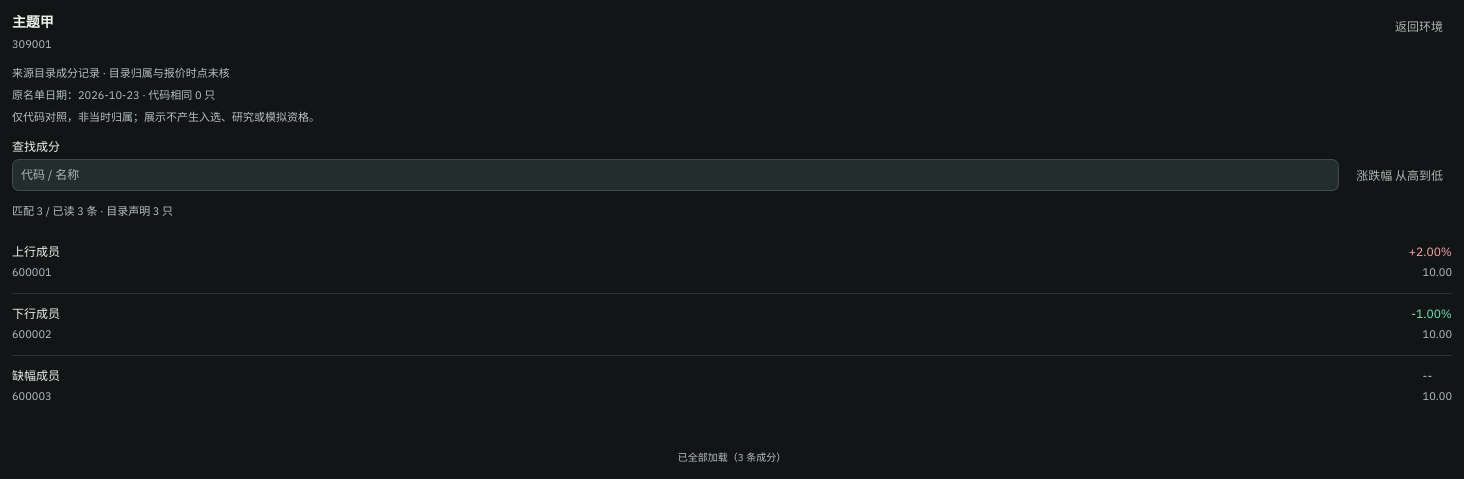
发现成分是原右栏只读参考 › sorts unknown values last in either direction and searches locally without another source read
Click the button with aria-label "涨跌幅降序，点击切换" at (1400, 176), box [1347,161,1452,191]
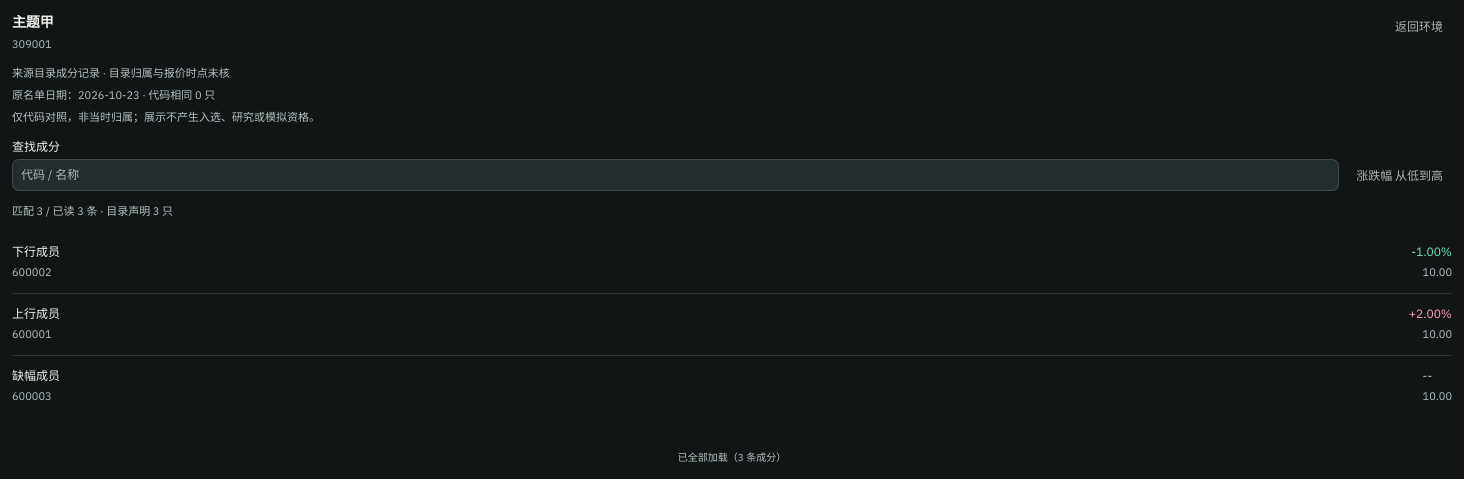
Expected: the links read "下行成员", "上行成员", "缺幅成员", in this order, [12,244,60,259]; [12,306,60,321]; [12,368,60,383]
Type "600001" into the search field labelled "查找成分" at (676, 175), box [12,159,1339,191]
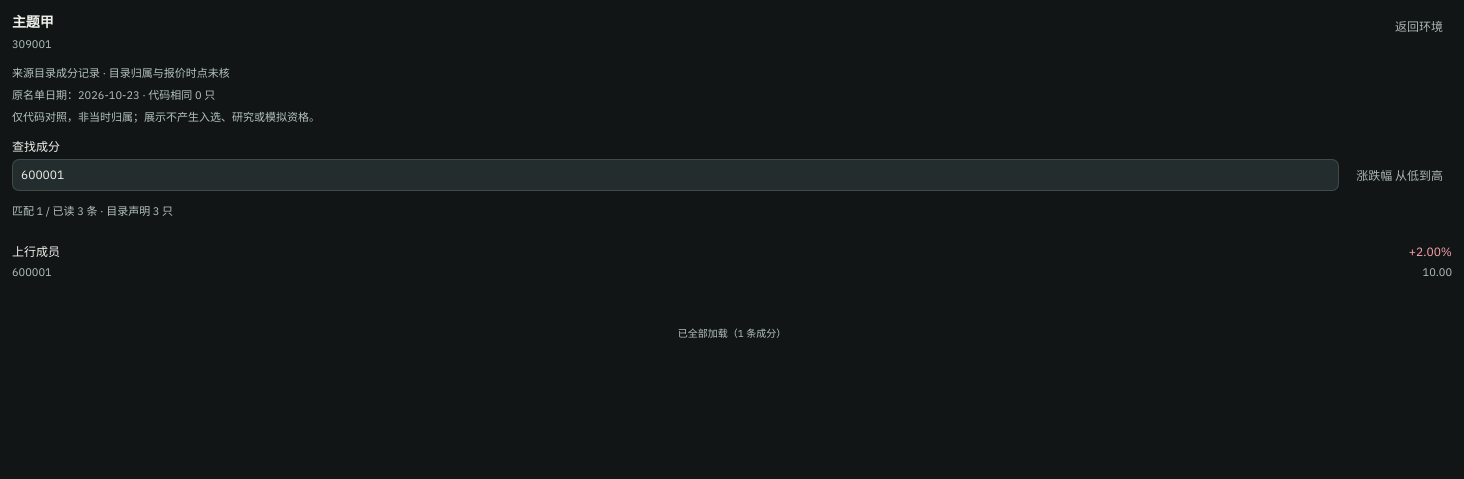
Expected: the link reads "上行成员", [12,244,60,259]
Expected: the number of links is 1, [12,244,60,259]
Replace the text in the search field labelled "查找成分" with "不匹配" at (676, 175), box [12,159,1339,191]
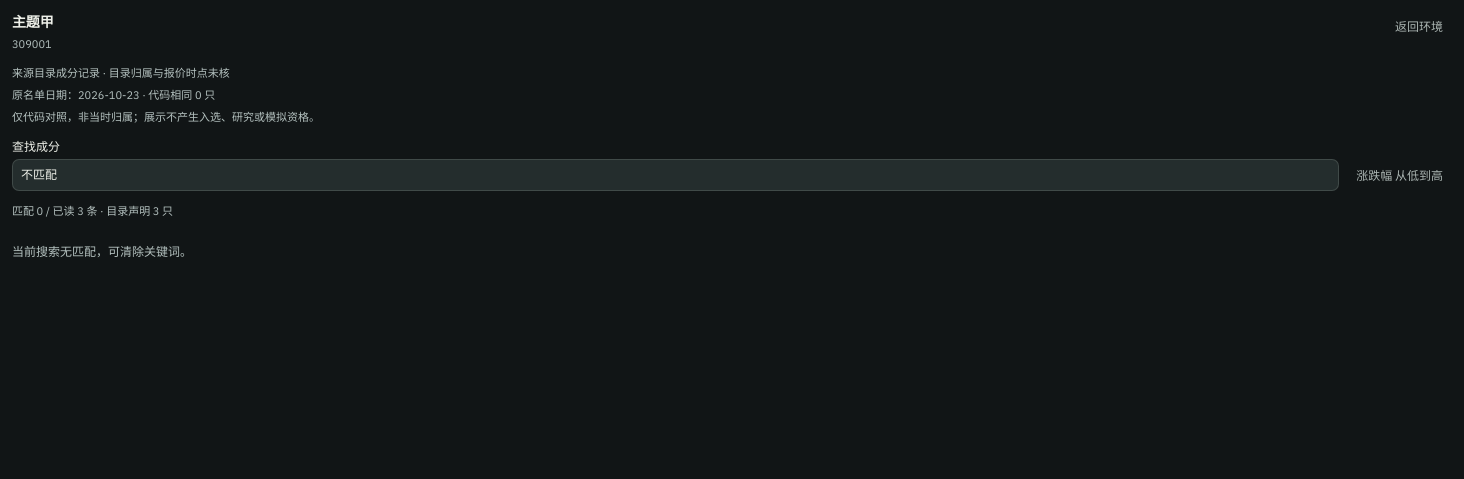
Expected: the text "当前搜索无匹配，可清除关键词。" is shown, [12,244,192,259]
